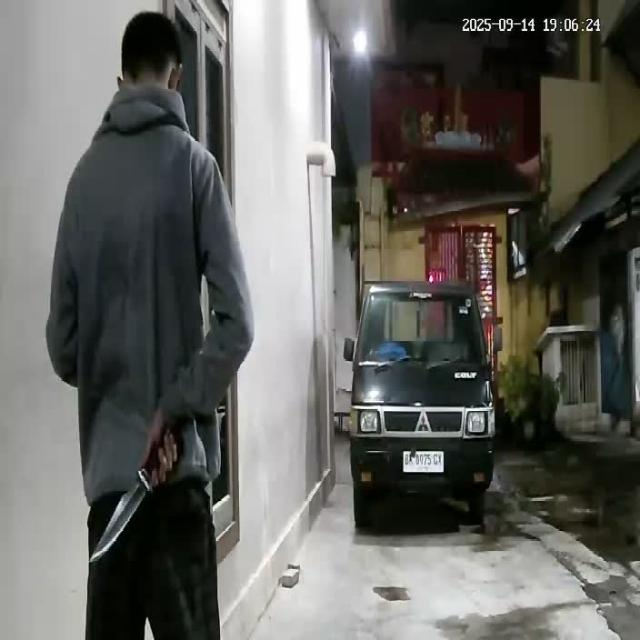senjata_tajam: (85, 468, 153, 566)
